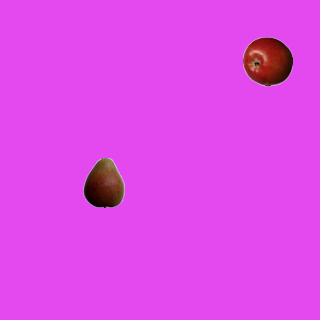Apple Braeburn: (242, 36, 292, 86)
Pear Forelle: (78, 157, 128, 207)
